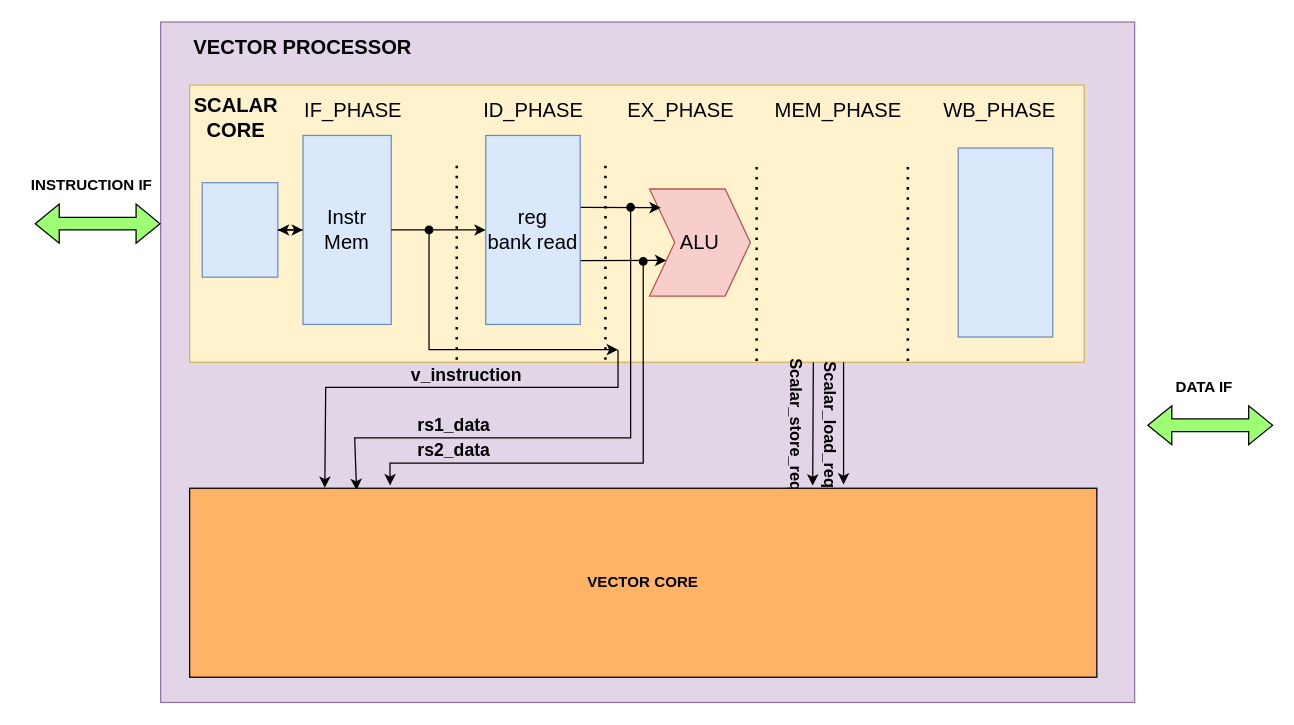
This 1294x725 diagram has some shape labels left out. Here are the shapes that lost their labels. From the top down, the centre of each, then its label:
At pixel 239 229: "pc".
At pixel 1005 242: "reg bank write".
